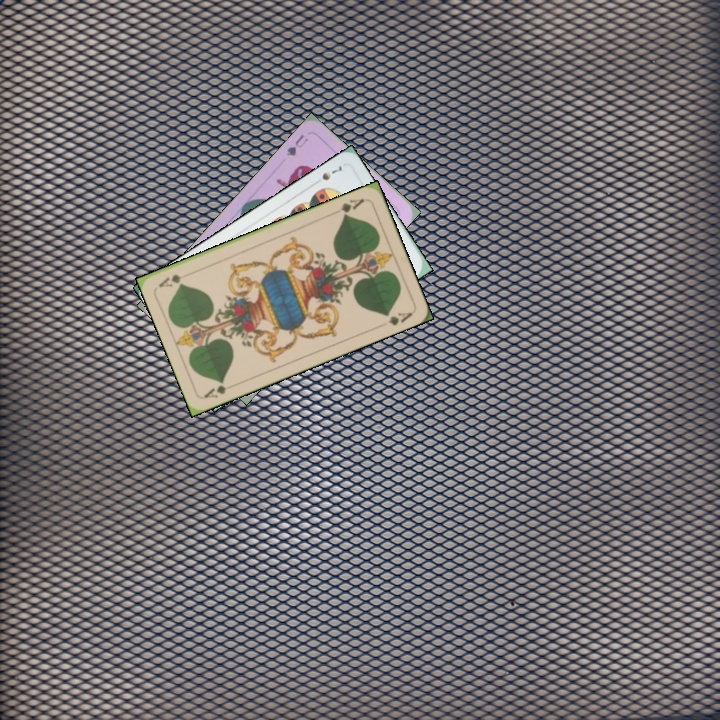GA: (329, 194, 367, 219), (200, 377, 239, 401)
GU: (282, 130, 311, 159)
S7: (318, 161, 345, 183)
